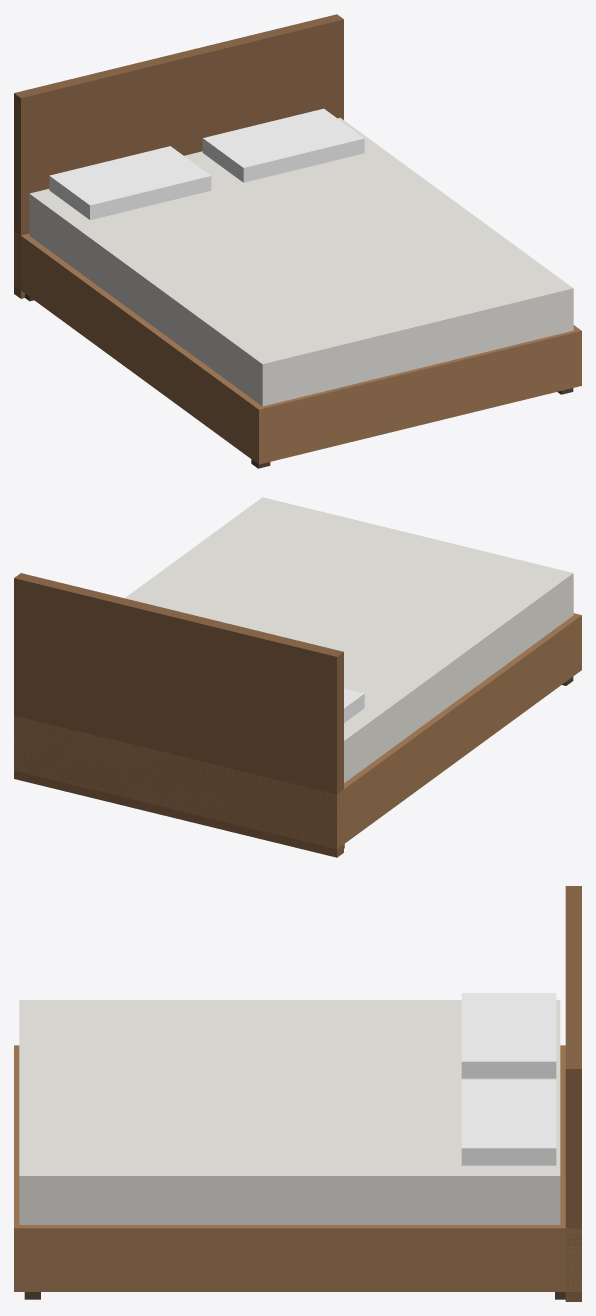
Rendered from bed-queen.glb.
The picture shows the model from 3 angles, top to bottom: view 1: azimuth 30°, elevation 25°; view 2: azimuth 150°, elevation 25°; view 3: azimuth 270°, elevation 25°; orthographic projection. The views are drawn at different scales.
Parts seen in each view (by area): view 1: bed-queen; view 2: bed-queen; view 3: bed-queen.
Part boxes in pixels (bbox=[...]): bed-queen: bbox=[14, 14, 581, 468]; bed-queen: bbox=[14, 497, 581, 857]; bed-queen: bbox=[14, 886, 581, 1301].
Size of the model in its own units: 1.6 by 0.95 by 2.1.
